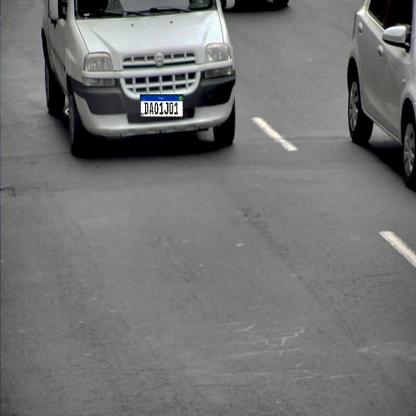PlacaM: (140, 94, 183, 118)
